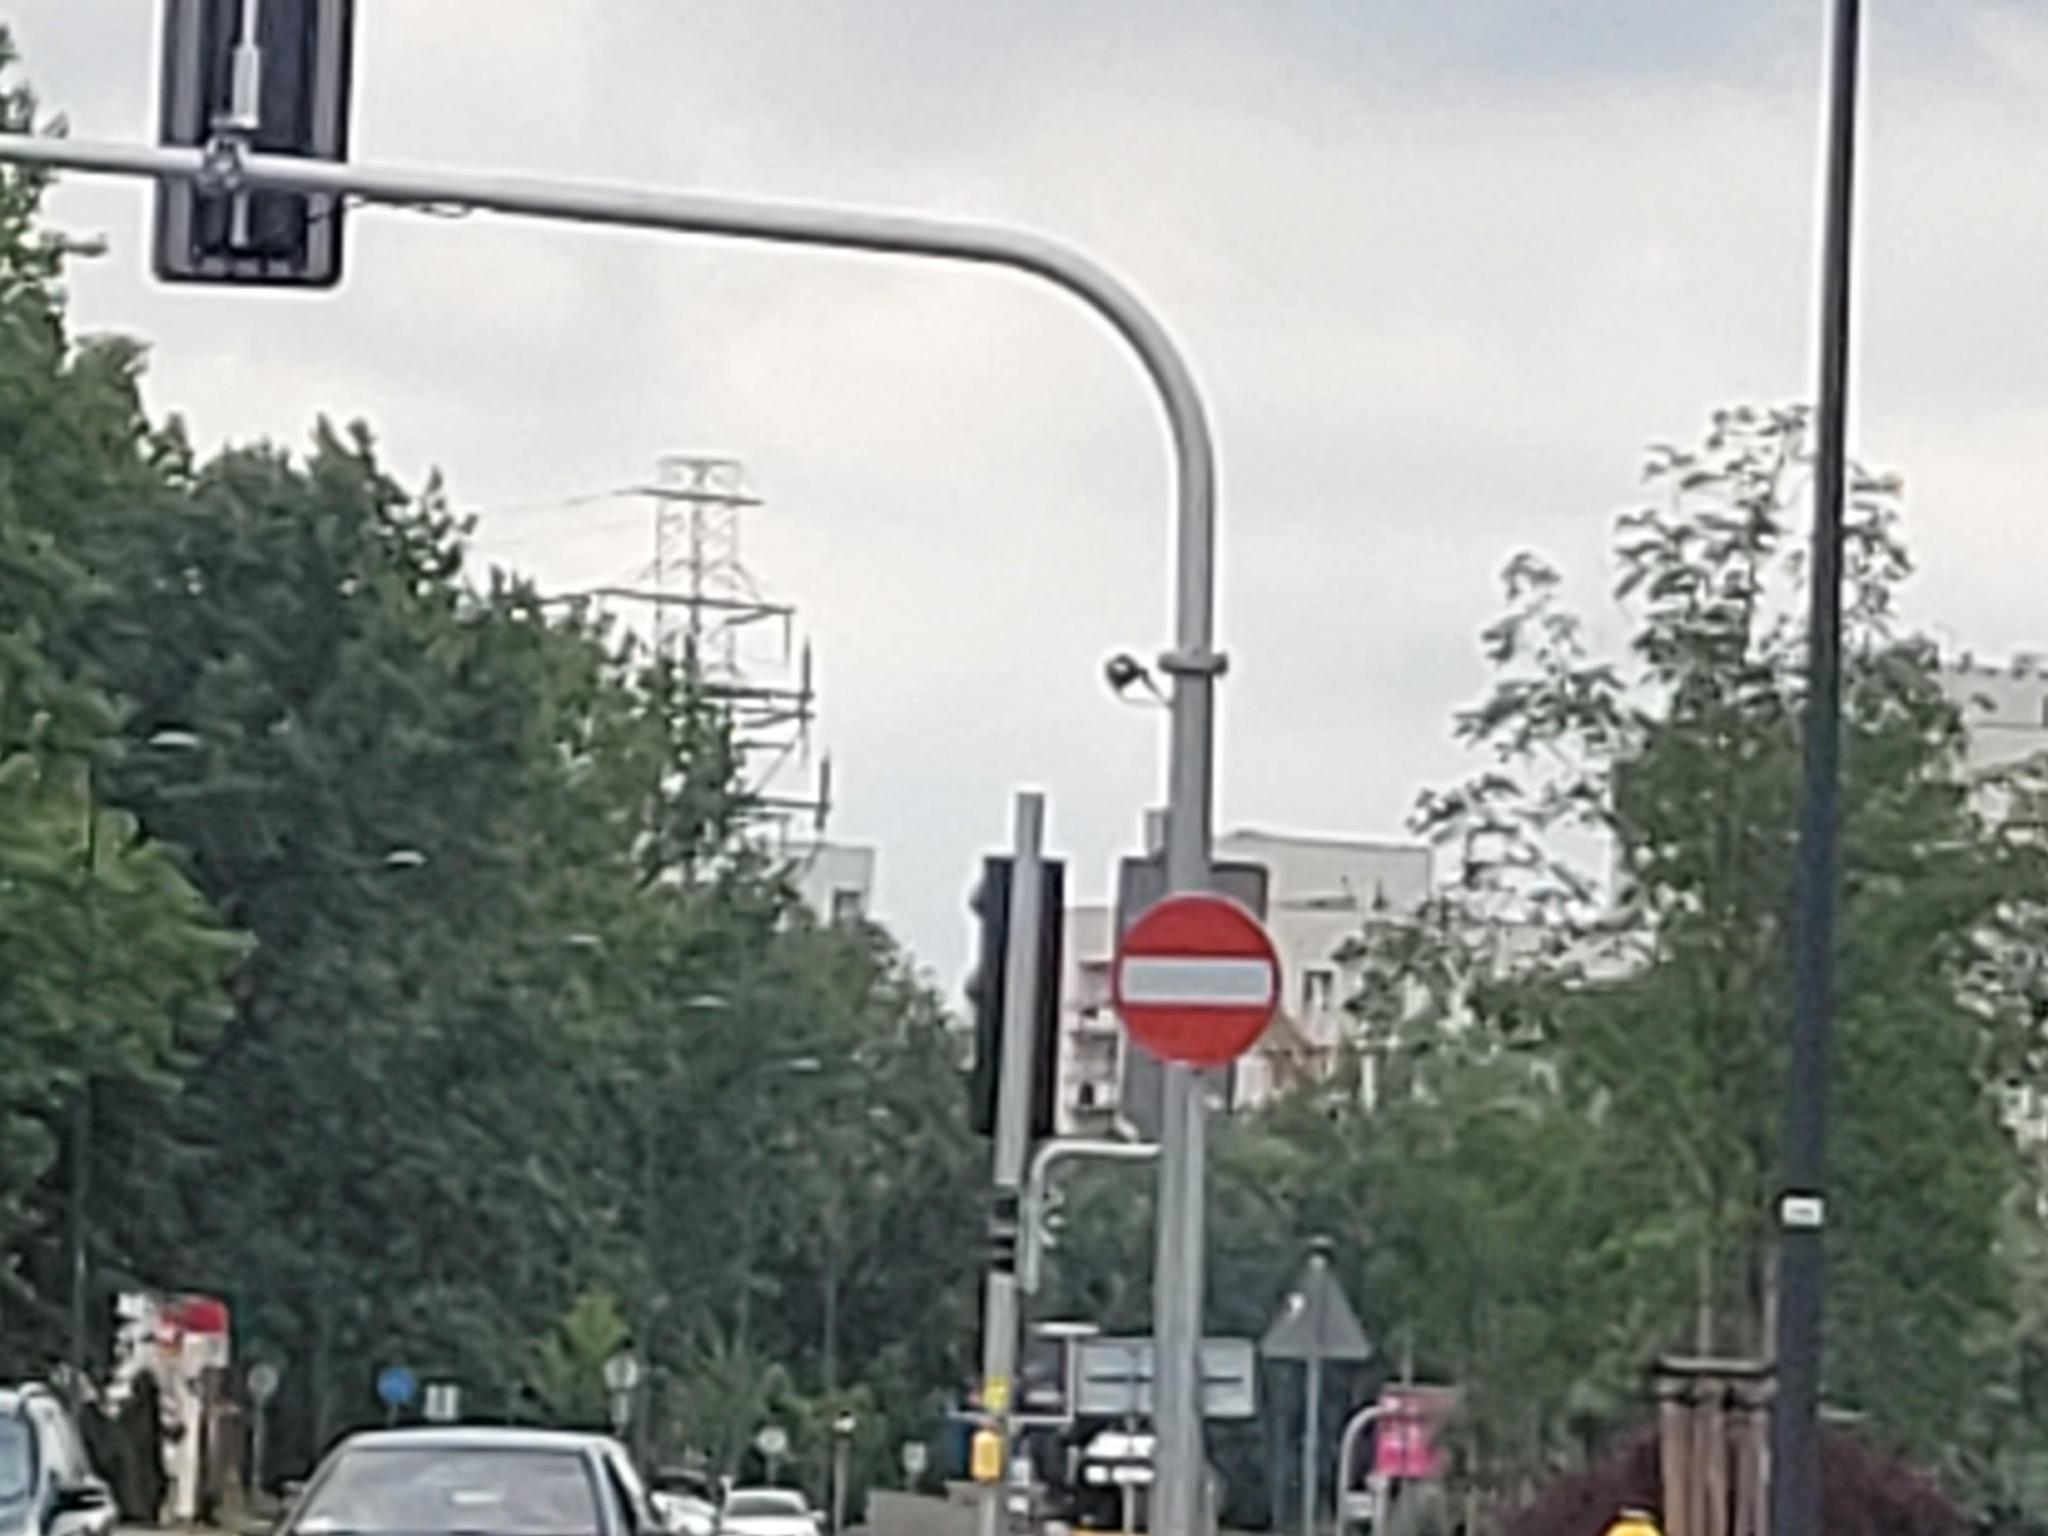prohibitory: (1109, 891, 1280, 1066)
